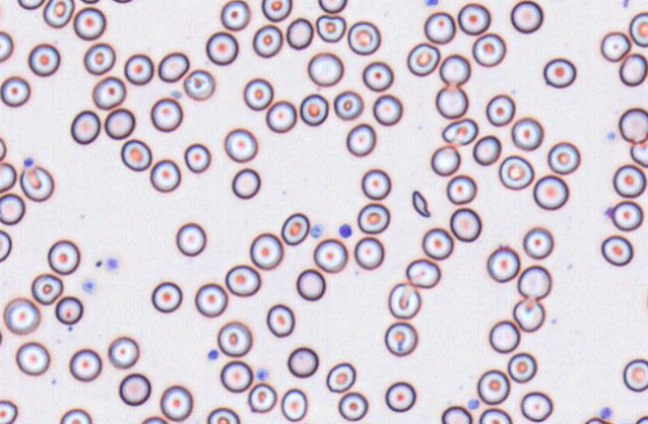PLT: (80, 279, 99, 293), (254, 366, 270, 382), (338, 222, 353, 239), (204, 348, 219, 362), (311, 222, 324, 238), (106, 258, 121, 271), (21, 156, 36, 168), (601, 405, 612, 420), (467, 397, 479, 410)
RBC: (2, 296, 40, 335), (217, 320, 252, 357), (486, 244, 520, 282), (249, 232, 283, 270), (307, 51, 343, 86), (533, 174, 568, 210), (498, 155, 534, 190), (19, 164, 53, 201), (159, 384, 193, 421), (387, 282, 421, 319), (517, 264, 551, 299), (15, 341, 50, 375), (91, 75, 126, 109), (223, 127, 257, 162), (194, 282, 228, 317), (476, 369, 510, 404), (313, 238, 347, 273), (472, 32, 506, 67), (224, 264, 261, 296), (406, 42, 440, 76), (612, 164, 646, 198), (435, 84, 468, 119), (384, 321, 417, 356), (47, 239, 80, 274), (347, 20, 380, 55), (512, 298, 545, 332), (118, 372, 151, 406), (73, 6, 106, 40), (205, 31, 238, 65), (449, 207, 481, 242), (150, 97, 182, 132), (511, 116, 543, 151), (618, 107, 648, 144), (68, 348, 101, 381), (457, 2, 490, 35), (510, 0, 543, 33), (547, 141, 580, 174), (219, 360, 253, 392), (488, 319, 520, 353), (107, 335, 139, 369), (28, 42, 60, 76), (120, 138, 152, 171), (421, 227, 453, 260), (83, 42, 115, 75), (600, 234, 633, 266), (423, 11, 455, 44), (357, 202, 390, 234), (149, 158, 180, 192), (175, 222, 206, 256), (542, 57, 576, 88), (405, 258, 440, 288), (70, 109, 100, 144), (441, 117, 478, 145), (286, 346, 318, 378), (31, 273, 63, 305), (384, 380, 416, 412), (295, 268, 326, 301), (522, 226, 553, 259), (520, 391, 553, 422), (610, 200, 643, 231), (345, 123, 376, 156), (265, 100, 296, 133), (353, 236, 384, 269), (618, 52, 648, 86), (157, 51, 189, 82), (183, 68, 214, 100), (439, 53, 470, 85), (104, 107, 135, 139), (123, 53, 154, 85), (151, 281, 182, 313), (360, 168, 391, 200), (243, 77, 273, 110), (252, 24, 282, 57), (485, 93, 515, 126), (266, 303, 295, 337), (325, 361, 356, 392), (362, 60, 393, 91), (600, 31, 631, 62), (430, 144, 460, 176), (0, 75, 30, 107), (372, 93, 402, 125), (280, 212, 309, 245), (299, 93, 328, 126), (337, 391, 368, 421), (231, 167, 260, 199), (280, 387, 307, 421), (446, 174, 476, 204), (220, 0, 250, 30), (333, 90, 363, 120), (507, 352, 536, 383), (472, 134, 501, 165), (247, 382, 276, 413), (315, 13, 346, 42), (42, 0, 74, 28), (285, 17, 313, 49), (622, 358, 648, 392), (54, 295, 83, 325), (183, 142, 211, 173), (0, 192, 25, 225), (629, 11, 648, 47), (261, 0, 292, 22), (206, 406, 240, 424), (441, 405, 472, 424), (478, 407, 512, 424), (629, 138, 648, 167), (59, 408, 92, 424), (0, 161, 16, 192), (0, 399, 17, 424), (0, 30, 13, 62), (0, 229, 12, 262), (317, 0, 347, 13), (139, 415, 168, 424), (17, 0, 45, 9), (582, 416, 613, 424), (0, 135, 6, 161), (634, 415, 648, 424), (645, 285, 648, 318), (78, 0, 101, 4), (424, 0, 439, 6), (0, 326, 3, 353), (110, 0, 135, 3)
Schistocyte: (409, 190, 432, 220)
